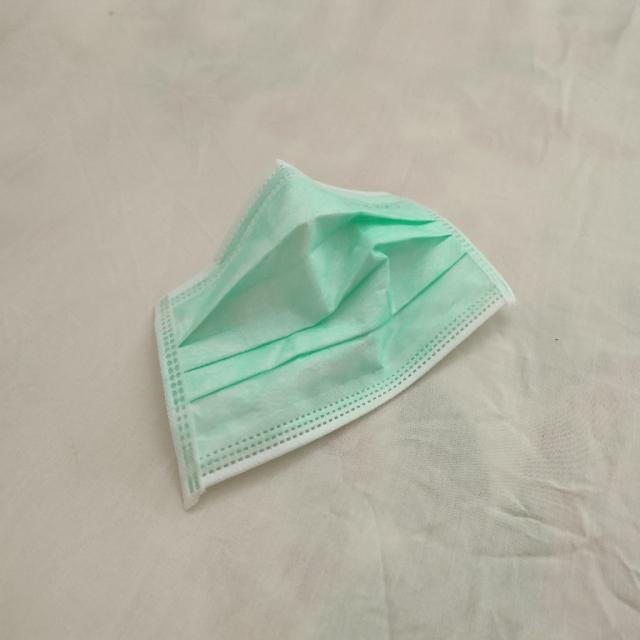non-organic waste: (151, 171, 515, 509)
